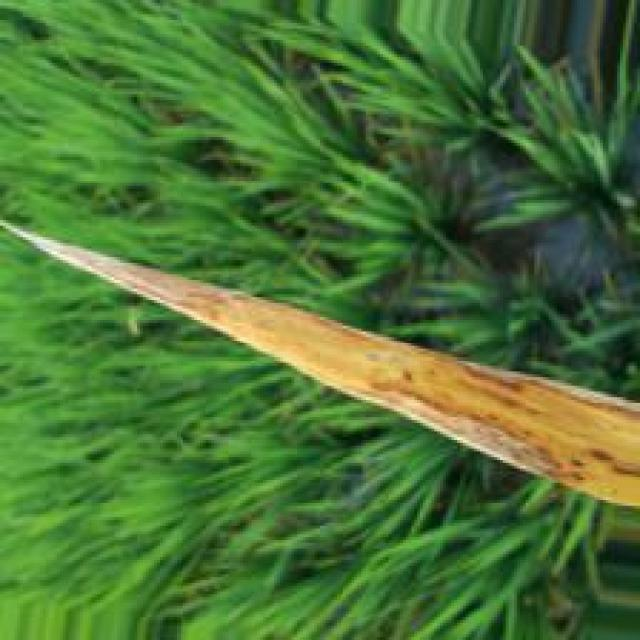Bacterial_Leaf_Blight: (5, 218, 640, 515)
